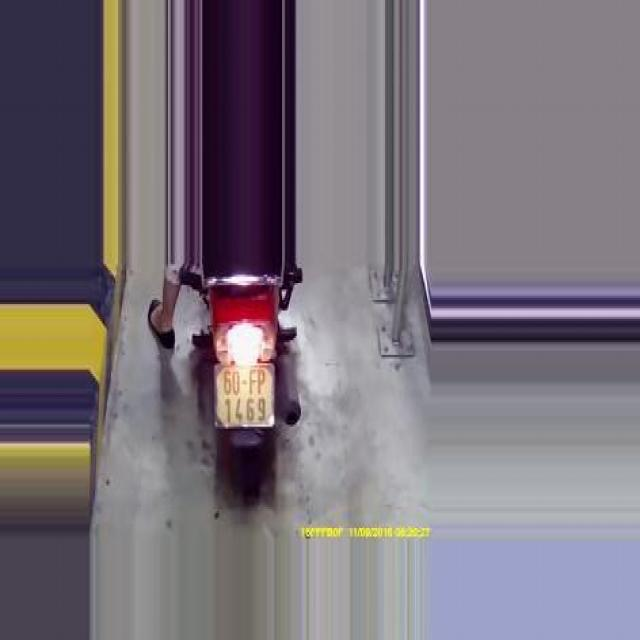License-Plates: (212, 358, 279, 435)
